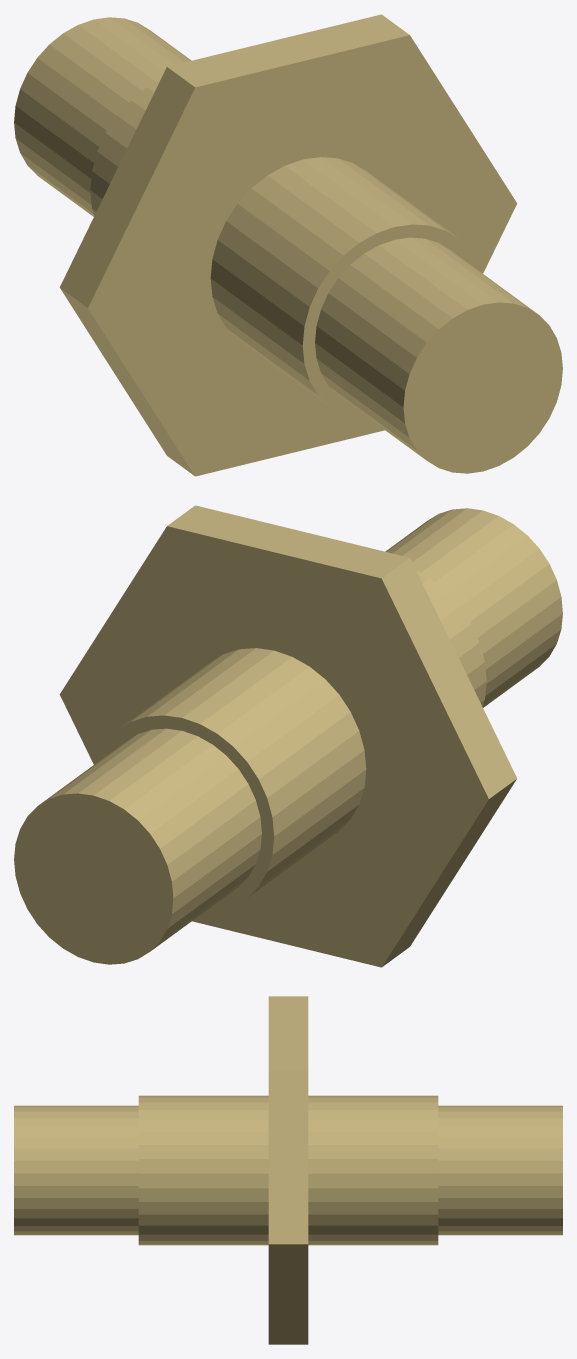
3 renders of one model, top to bottom at view 1: azimuth 30°, elevation 25°; view 2: azimuth 150°, elevation 25°; view 3: azimuth 270°, elevation 25°, orthographic. The views are drawn at different scales.
Parts seen in each view (by area): view 1: world; view 2: world; view 3: world.
Boxes of the visible parts, left/top/right/bottom form: world: left=14, top=14, right=562, bottom=476; world: left=14, top=505, right=562, bottom=967; world: left=14, top=996, right=562, bottom=1344.
Bounding box in the file's own units: 0.581 × 0.5032 × 0.913.
